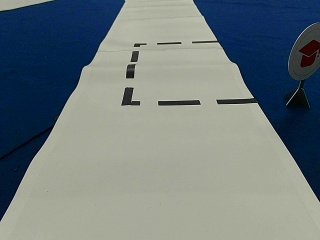school: (288, 23, 318, 79)
